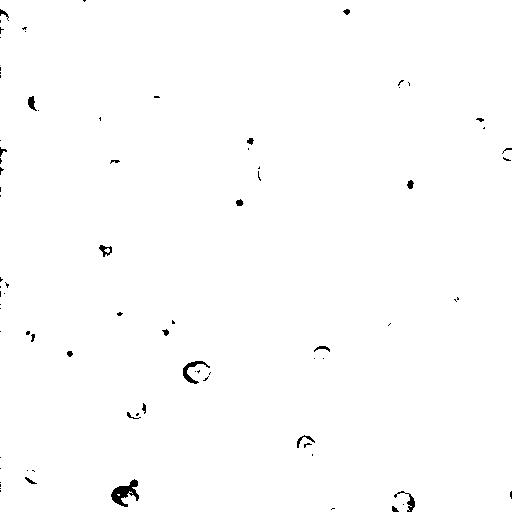micro-algae: (158, 319, 248, 407), (88, 151, 152, 212), (247, 354, 298, 405), (110, 384, 157, 428), (341, 257, 385, 300), (19, 83, 58, 122), (228, 124, 270, 160), (462, 281, 500, 319), (153, 308, 187, 342), (440, 279, 474, 312), (8, 18, 42, 50), (92, 105, 124, 137), (115, 466, 150, 495), (99, 303, 135, 331), (396, 169, 424, 199), (213, 492, 254, 512), (382, 317, 416, 341), (182, 360, 212, 385), (110, 485, 140, 508), (294, 434, 317, 464), (17, 326, 43, 352), (466, 91, 491, 117), (266, 98, 290, 124), (101, 158, 126, 182), (55, 339, 80, 363), (390, 491, 416, 512), (335, 0, 358, 23), (222, 151, 245, 174), (496, 479, 512, 511), (150, 442, 174, 463), (256, 160, 276, 184), (498, 12, 512, 46), (125, 401, 148, 420), (95, 236, 114, 258), (23, 468, 45, 485), (312, 344, 332, 361), (471, 115, 489, 133), (448, 72, 467, 89), (1, 147, 13, 173), (397, 78, 412, 97), (0, 9, 12, 31), (173, 424, 189, 438), (322, 503, 345, 512), (70, 0, 93, 8), (0, 278, 10, 296), (501, 146, 512, 162), (232, 197, 247, 208)
